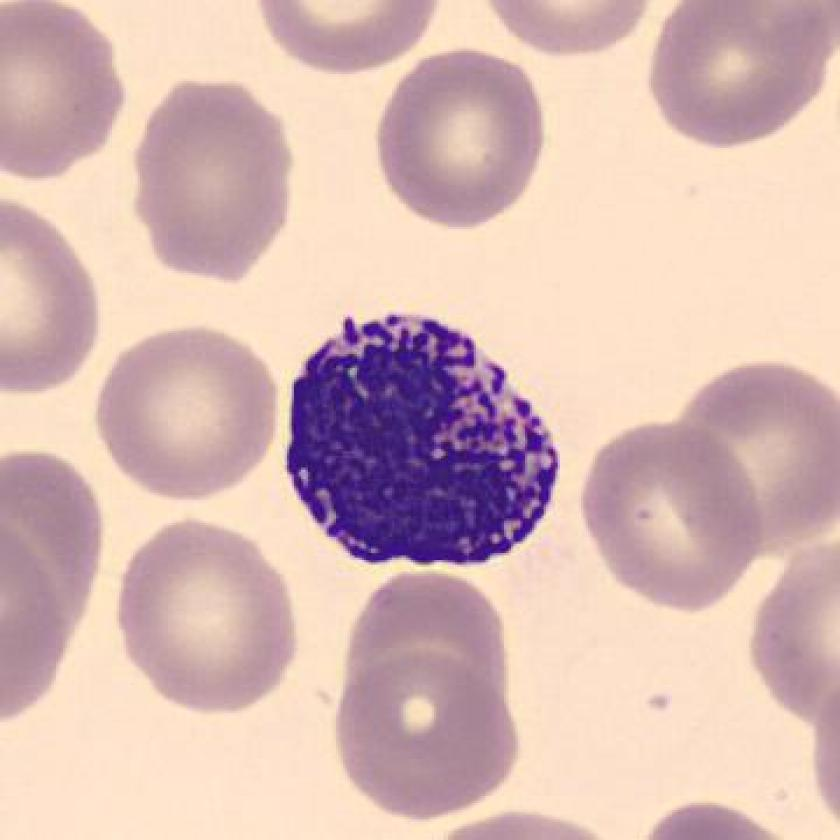basophil: (281, 300, 561, 577)
